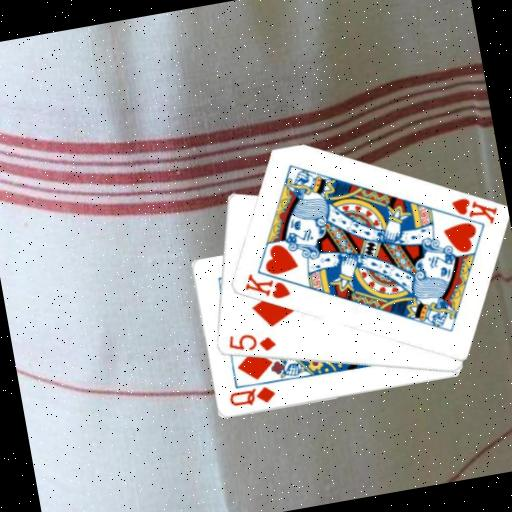5D: (223, 325, 278, 360)
KH: (238, 264, 292, 307), (447, 189, 501, 232)
QD: (224, 381, 277, 411)
